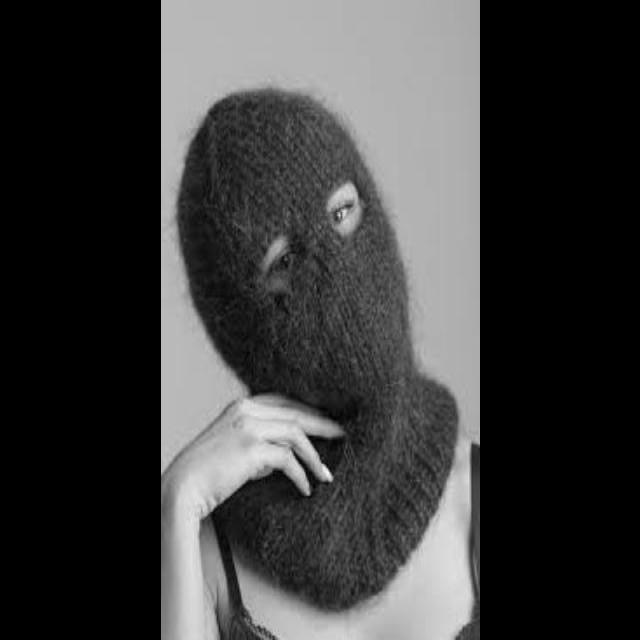6_pasamontana: (175, 88, 409, 408)
